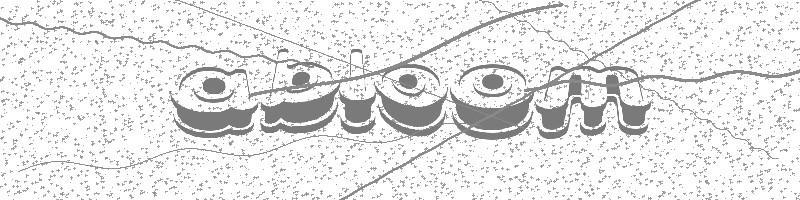a: (169, 65, 258, 138)
b: (261, 47, 339, 136)
l: (338, 43, 377, 135)
m: (536, 56, 652, 137)
o: (450, 58, 534, 141), (376, 61, 449, 134)
